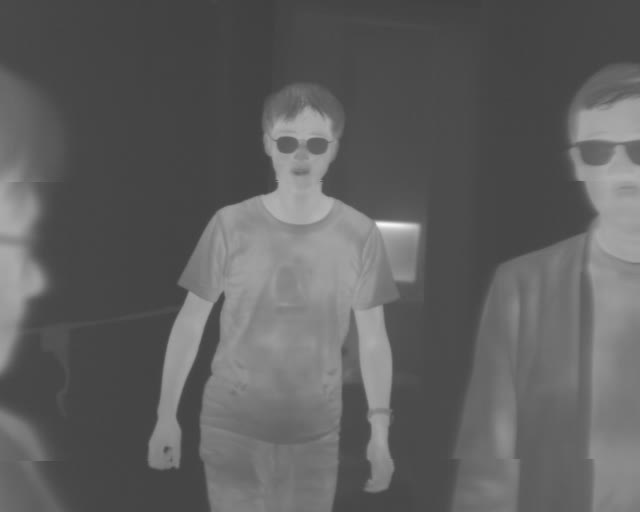face: (565, 58, 640, 229), (260, 80, 346, 193)
